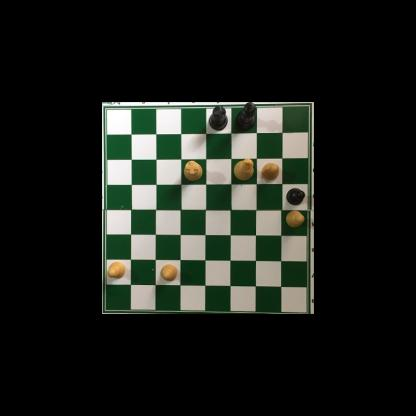black-king: (235, 103, 256, 131)
black-pawn: (286, 186, 305, 206)
black-rook: (209, 103, 228, 131)
white-king: (232, 157, 254, 181)
white-pawn: (159, 263, 179, 282), (285, 210, 306, 228), (261, 162, 280, 181), (106, 260, 126, 278)
white-rook: (183, 158, 203, 182)
